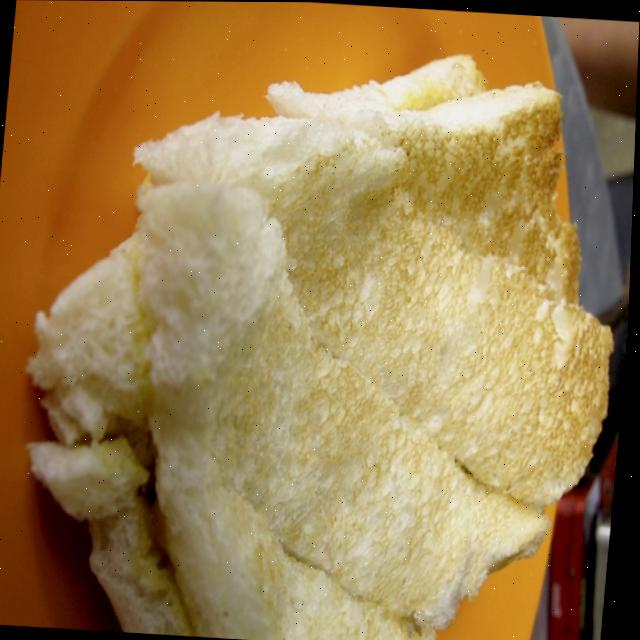面包点心: (0, 29, 619, 640)
